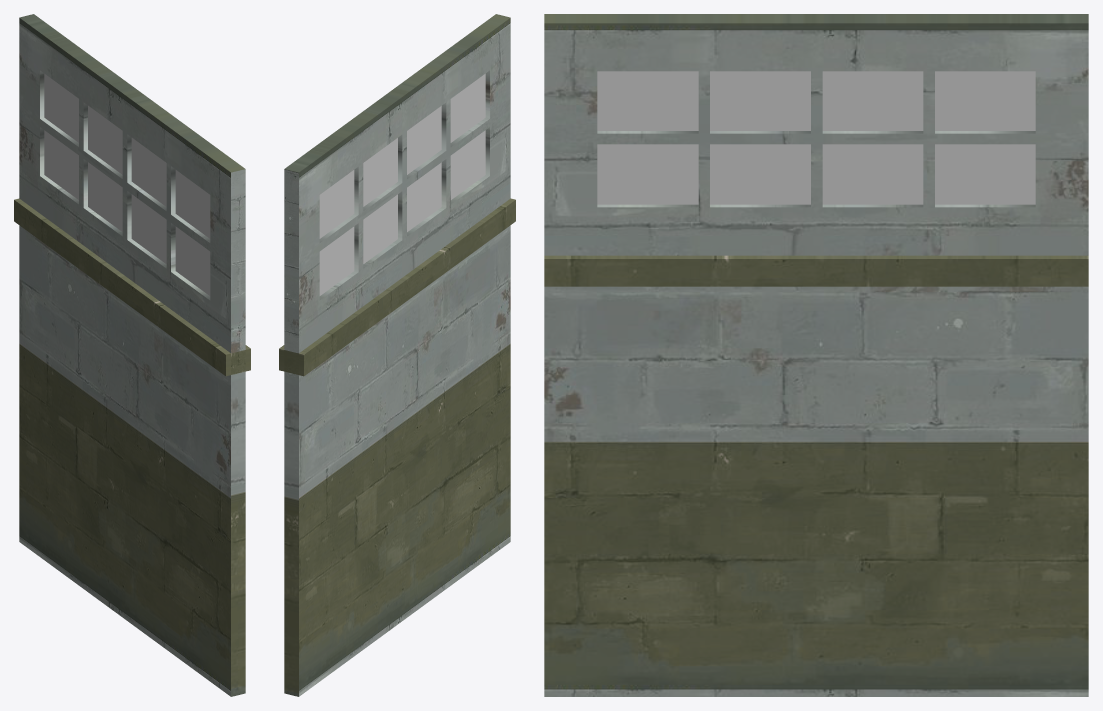
Rendered from Wall_Glass.fbx.
3 renders of one model, left to right at view 1: azimuth 30°, elevation 25°; view 2: azimuth 150°, elevation 25°; view 3: azimuth 270°, elevation 25°, orthographic. The views are drawn at different scales.
Parts seen in each view (by area): view 1: Wall_Glass; view 2: Wall_Glass; view 3: Wall_Glass.
Part boxes in pixels (bbox=[...]): Wall_Glass: bbox=[14, 14, 250, 696]; Wall_Glass: bbox=[279, 14, 515, 696]; Wall_Glass: bbox=[544, 14, 1088, 696].
Bounding box in the file's own units: 0.4076 × 8.13 × 5.96.
